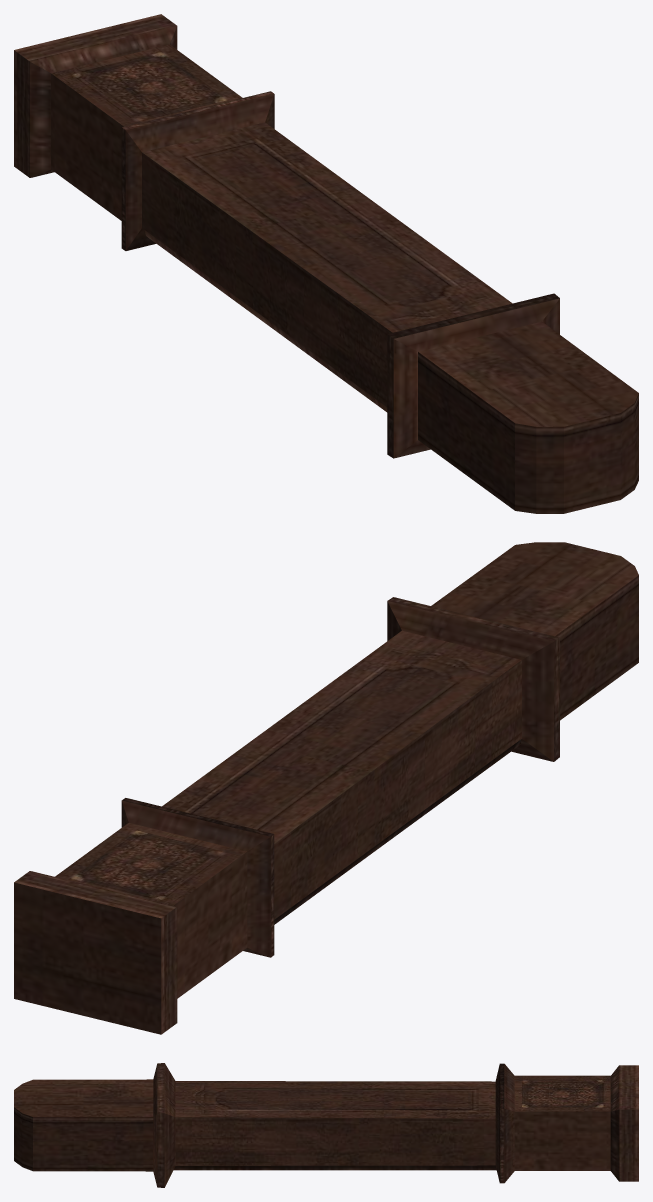
Rendered from furniture_grandfatherclocktall.glb.
The picture shows the model from 3 angles, top to bottom: view 1: azimuth 30°, elevation 25°; view 2: azimuth 150°, elevation 25°; view 3: azimuth 270°, elevation 25°; orthographic projection. The views are drawn at different scales.
Size of the model in its own units: 16.7 by 11.87 by 87.57.
1 material, 1 textured.
